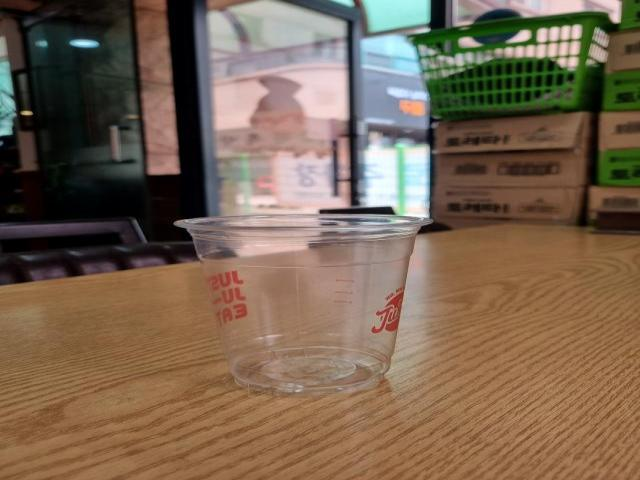cup: (165, 208, 445, 402)
